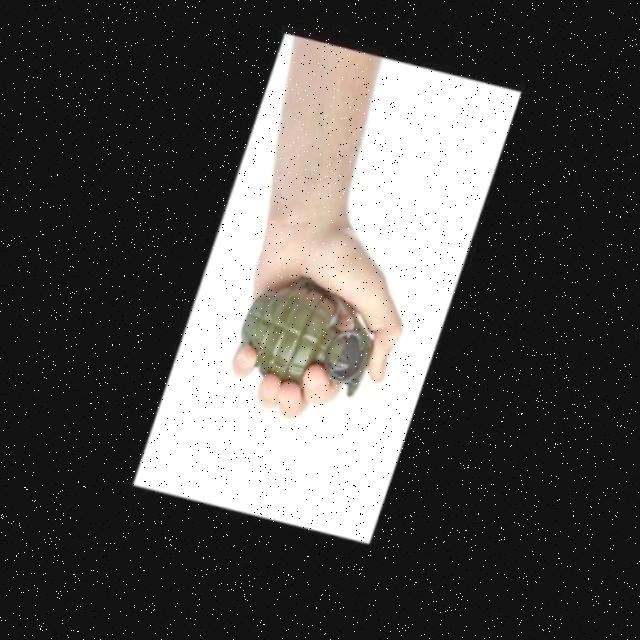grenade: (220, 262, 397, 421)
